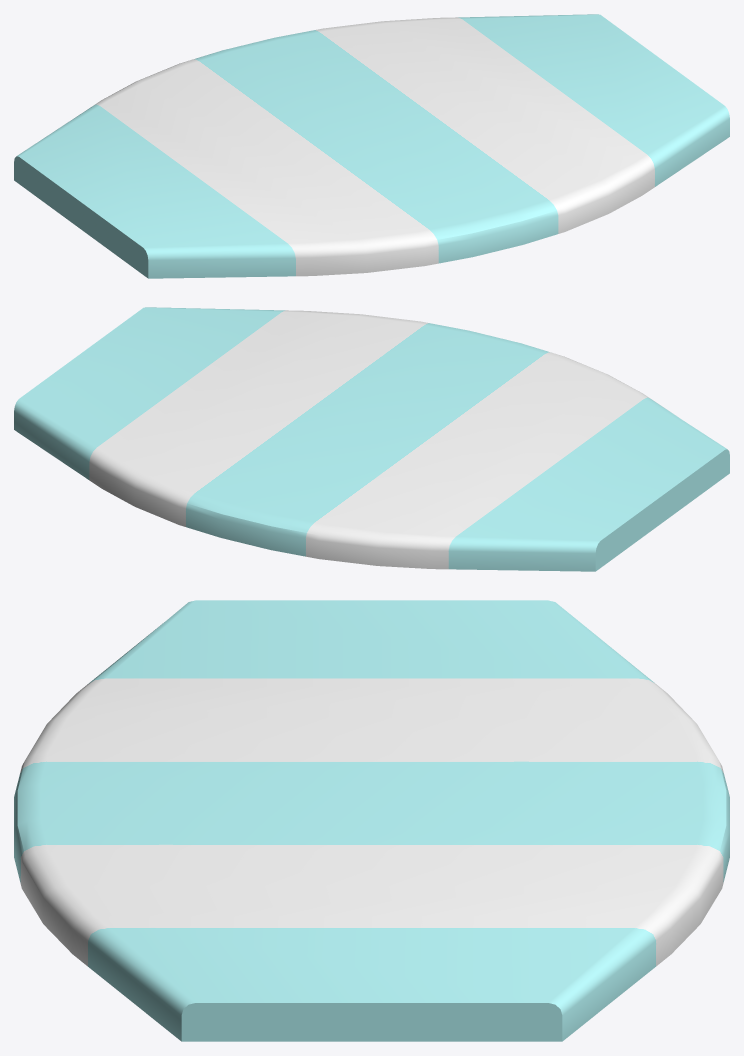
Rendered from RoadWide_blue.fbx.
The picture shows the model from 3 angles, top to bottom: view 1: azimuth 30°, elevation 25°; view 2: azimuth 150°, elevation 25°; view 3: azimuth 270°, elevation 25°; orthographic projection. The views are drawn at different scales.
Visible parts, largest first — view 1: RoadWide; view 2: RoadWide; view 3: RoadWide.
Boxes of the visible parts, x1,y1,x2,y2 form: RoadWide: (14, 14, 729, 278); RoadWide: (14, 307, 729, 571); RoadWide: (14, 600, 729, 1041).
Bounding box in the file's own units: 750 × 33.61 × 564.
1 material, 1 textured.
